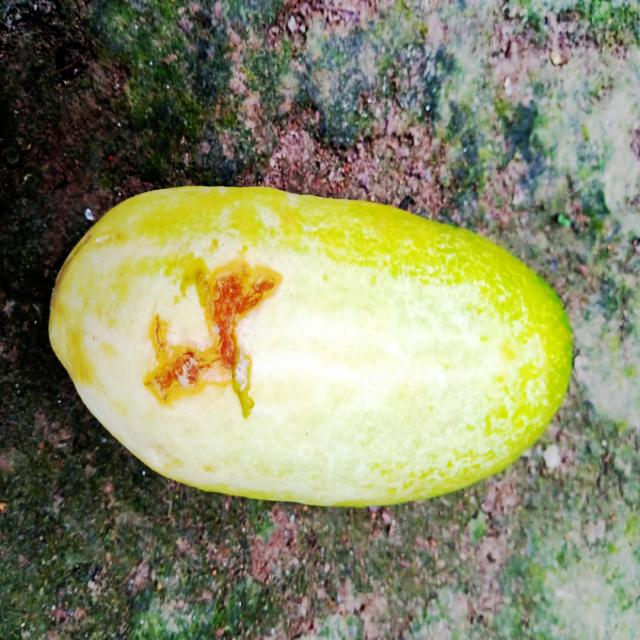Belly-Rot: (139, 239, 289, 438)
